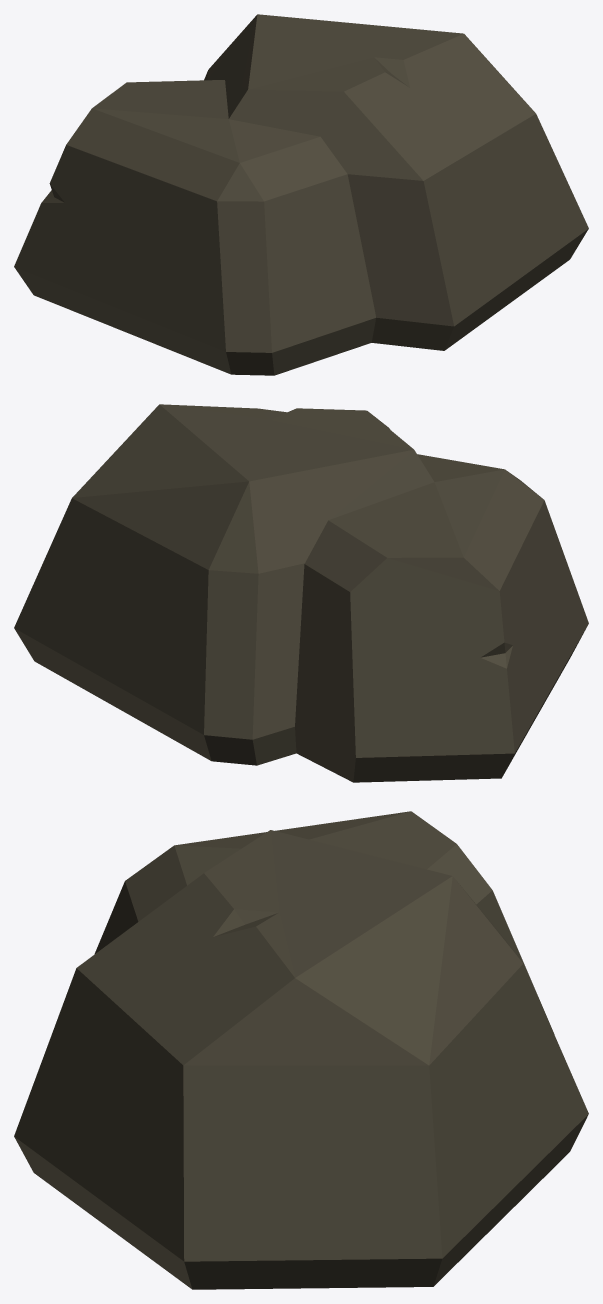
Rendered from rock__rock10_cave_dark.glb.
3 renders of one model, top to bottom at view 1: azimuth 30°, elevation 25°; view 2: azimuth 150°, elevation 25°; view 3: azimuth 270°, elevation 25°, orthographic. The views are drawn at different scales.
Parts seen in each view (by area): view 1: rock10.cave.dark; view 2: rock10.cave.dark; view 3: rock10.cave.dark.
Part boxes in pixels (<box>): rock10.cave.dark: <box>14,14,588,375</box>; rock10.cave.dark: <box>14,404,588,782</box>; rock10.cave.dark: <box>14,811,588,1289</box>.
Bounding box in the file's own units: 2.77 × 1.25 × 2.3.
1 material, 1 textured.
